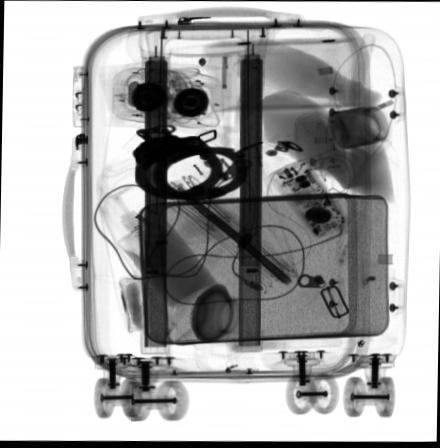HandCuffs: (129, 123, 248, 202)
